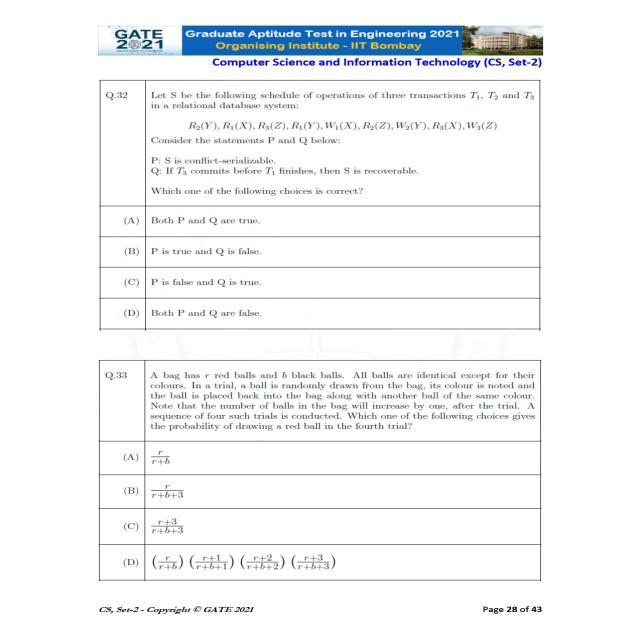Answer_Block: (99, 448, 542, 578), (99, 206, 542, 329)
Question_Answer_Block: (99, 81, 542, 329), (99, 359, 542, 579), (99, 359, 542, 444)
Question_Block: (99, 81, 542, 206)
Question_Paper_Area: (99, 81, 542, 579)
